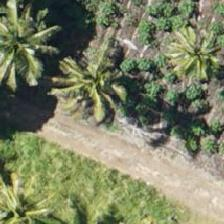coconut_tree: (54, 56, 144, 146), (147, 8, 223, 98), (0, 0, 59, 86), (0, 164, 47, 223)
